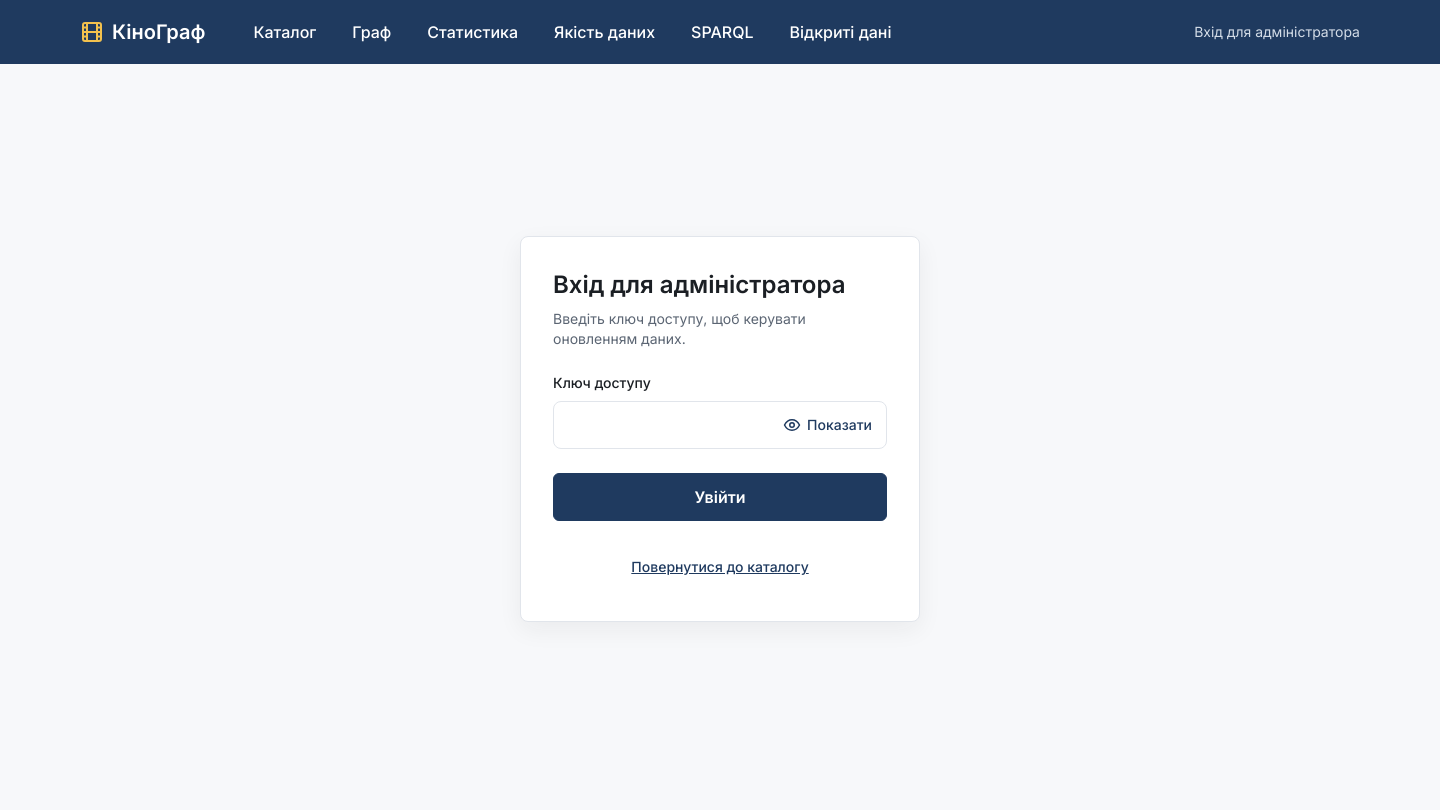
Test: вхід адміністратора › повідомляє про неправильний ключ
Type "wrong" into the password field labelled "Ключ доступу" at (670, 425), box [566,403,773,447]
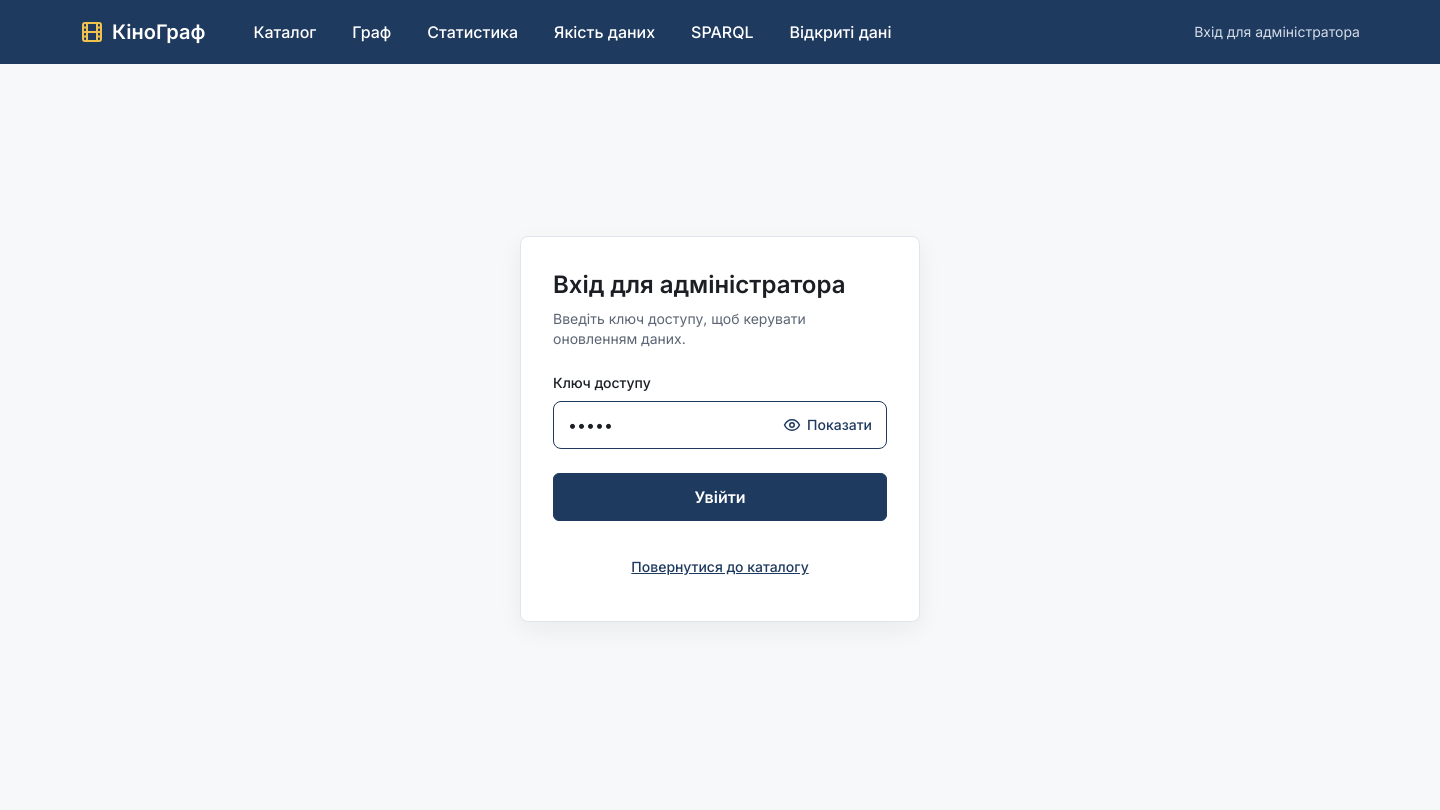
Click the button "Увійти" at (720, 497), box [553,473,887,521]
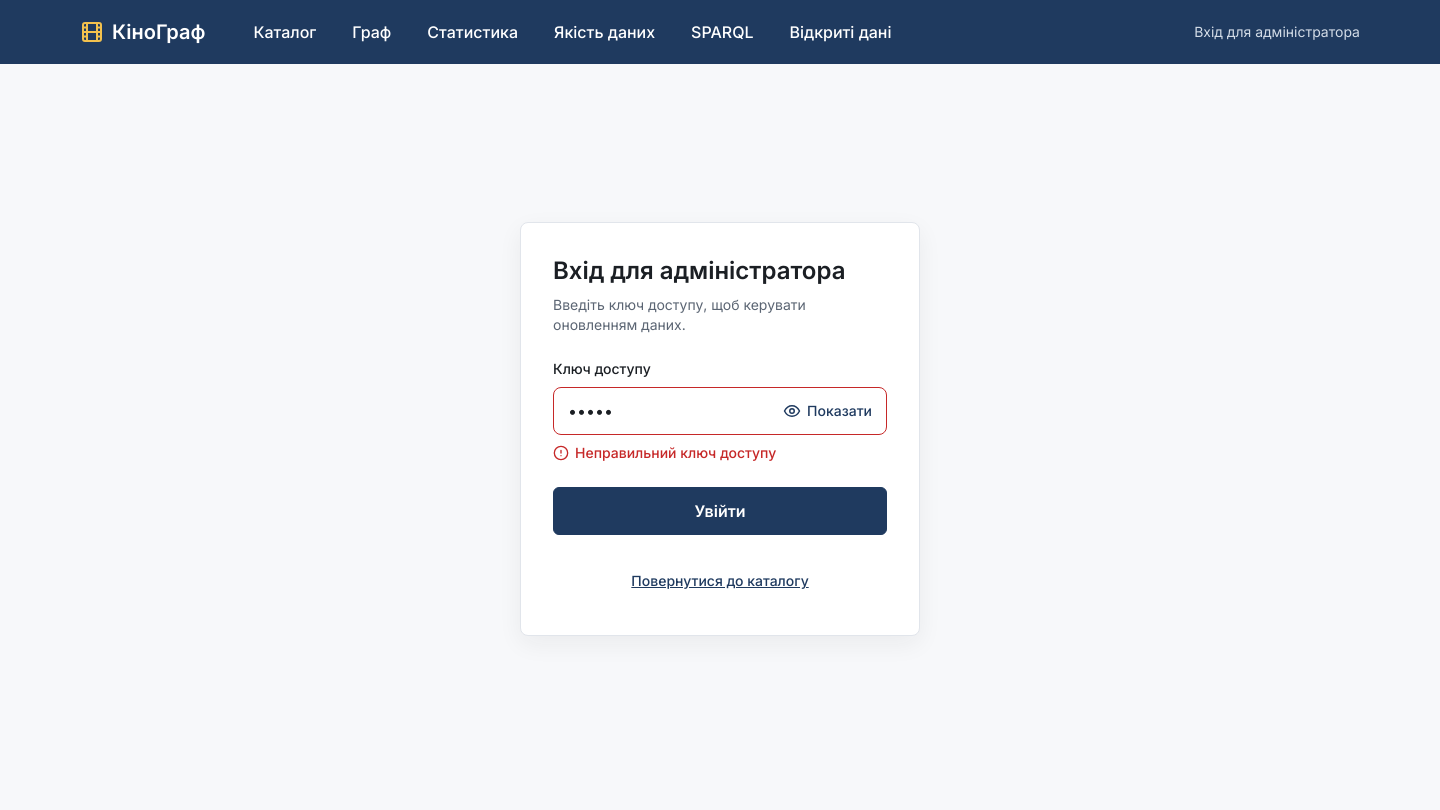
Expected: the message reads "Неправильний ключ доступу", [575,444,776,461]
